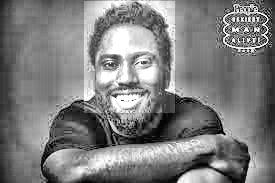happy: (85, 1, 176, 113)
